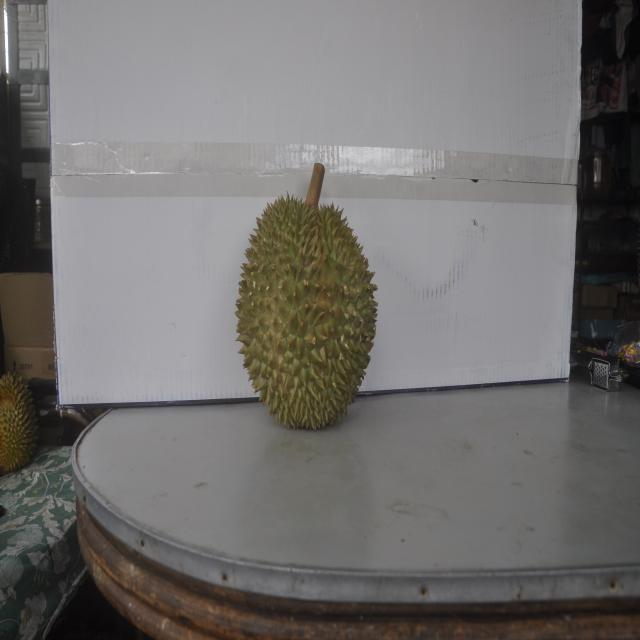mature: (234, 177, 378, 432), (0, 370, 39, 476)
